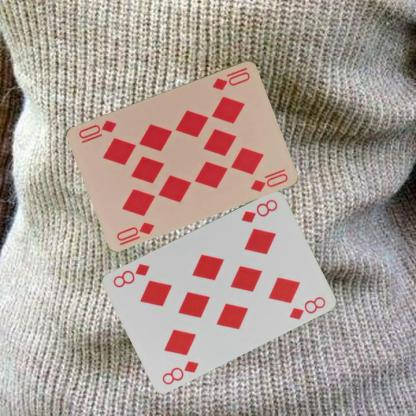10d: (114, 219, 156, 247), (210, 64, 252, 91)
8d: (159, 358, 200, 386), (239, 196, 279, 223)
